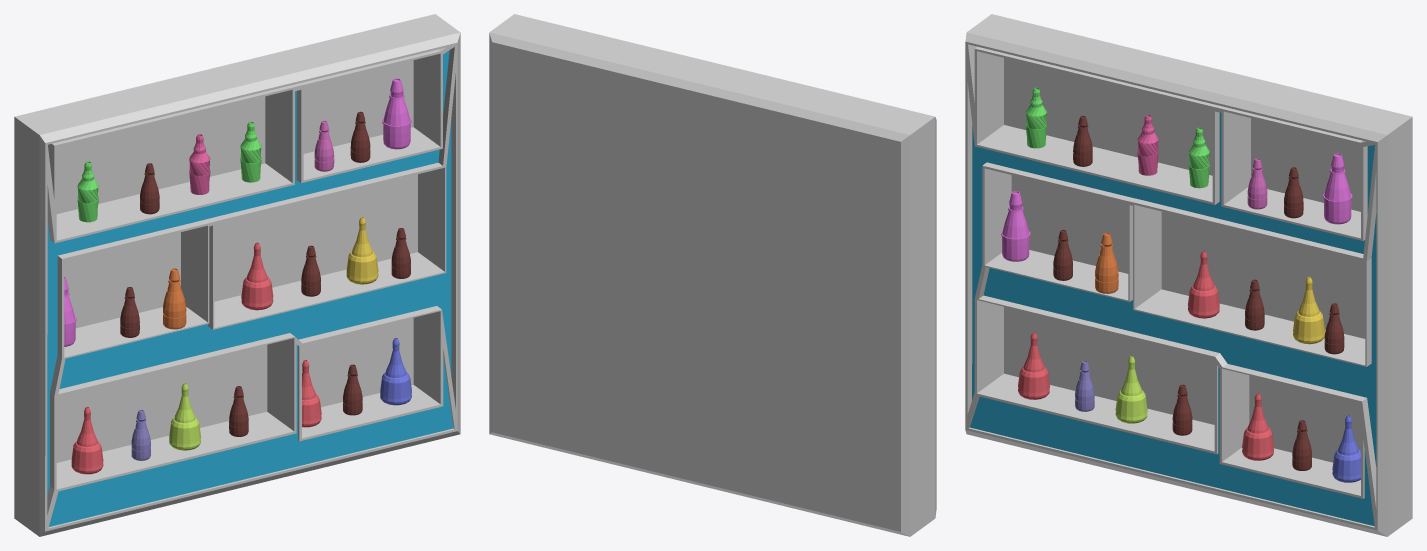
File: Bar Shelf.fbx
3 renders of one model, left to right at view 1: azimuth 30°, elevation 25°; view 2: azimuth 150°, elevation 25°; view 3: azimuth 330°, elevation 25°, orthographic.
Parts seen in each view (by area): view 1: Plane, Cylinder.018, Cylinder.021, Cylinder.016, Cylinder.019, Cylinder.006, Cylinder.025, Cylinder.009, Cylinder.011, Cylinder.010, Cylinder.008, Cylinder.023 (+10 smaller); view 2: Plane; view 3: Plane, Cylinder.018, Cylinder.005, Cylinder.019, Cylinder.006, Cylinder.016, Cylinder.023, Cylinder.021, Cylinder.025, Cylinder.009, Cylinder.011, Cylinder.010 (+10 smaller).
Boxes of the visible parts, bbox=[...] form: Plane: bbox=[14, 14, 460, 536]; Cylinder.018: bbox=[382, 78, 411, 149]; Cylinder.021: bbox=[169, 383, 201, 450]; Cylinder.016: bbox=[346, 217, 378, 284]; Cylinder.019: bbox=[71, 407, 103, 474]; Cylinder.006: bbox=[241, 242, 273, 310]; Cylinder.025: bbox=[380, 338, 411, 405]; Cylinder.009: bbox=[163, 268, 186, 329]; Cylinder.011: bbox=[189, 134, 210, 194]; Cylinder.010: bbox=[77, 161, 98, 222]; Cylinder.008: bbox=[240, 122, 261, 182]; Cylinder.023: bbox=[302, 360, 321, 427]; Plane: bbox=[489, 14, 936, 536]; Plane: bbox=[965, 14, 1412, 536]; Cylinder.018: bbox=[1323, 153, 1352, 224]; Cylinder.005: bbox=[1001, 191, 1030, 261]; Cylinder.019: bbox=[1018, 332, 1049, 399]; Cylinder.006: bbox=[1187, 251, 1219, 318]; Cylinder.016: bbox=[1293, 276, 1324, 344]; Cylinder.023: bbox=[1242, 393, 1273, 460]; Cylinder.021: bbox=[1115, 356, 1147, 423]; Cylinder.025: bbox=[1332, 415, 1360, 482]; Cylinder.009: bbox=[1095, 233, 1118, 293]; Cylinder.011: bbox=[1137, 115, 1158, 175]; Cylinder.010: bbox=[1025, 87, 1046, 148].
Bounding box in the file's own units: 768 × 701 × 101.
